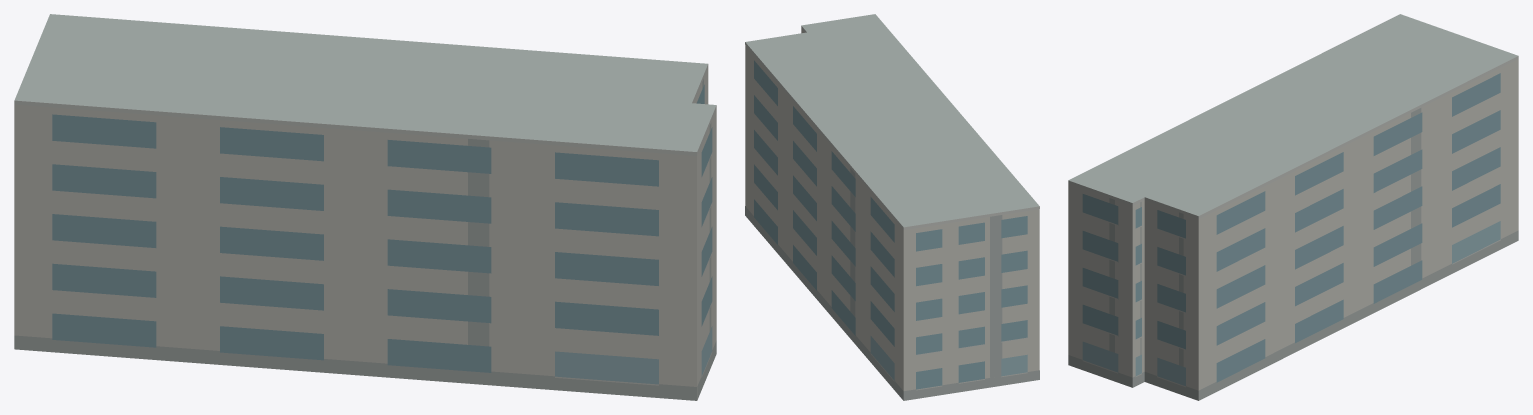
The model's file is residential-9ddc6ebe-7feb-497e-b306-f72a15f2168d.glb.
The picture shows the model from 3 angles, left to right: view 1: azimuth 30°, elevation 25°; view 2: azimuth 150°, elevation 25°; view 3: azimuth 270°, elevation 25°; orthographic projection. The views are drawn at different scales.
Visible parts, largest first — view 1: residential-9ddc6ebe-7feb-497e-b306-f72a15f2168d.tmp; view 2: residential-9ddc6ebe-7feb-497e-b306-f72a15f2168d.tmp; view 3: residential-9ddc6ebe-7feb-497e-b306-f72a15f2168d.tmp.
Boxes of the visible parts, x1,y1,x2,y2 form: residential-9ddc6ebe-7feb-497e-b306-f72a15f2168d.tmp: (14,14,716,400); residential-9ddc6ebe-7feb-497e-b306-f72a15f2168d.tmp: (745,14,1039,400); residential-9ddc6ebe-7feb-497e-b306-f72a15f2168d.tmp: (1068,14,1518,400).
Size of the model in its own units: 35.81 by 15.25 by 33.71.
